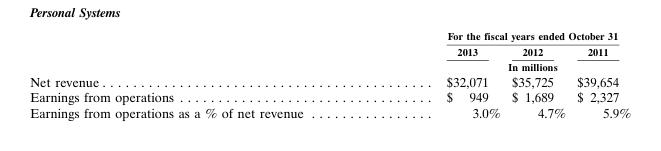table: (29, 29, 630, 119)
table column: (29, 29, 374, 119), (374, 29, 505, 119), (505, 29, 570, 119), (570, 29, 630, 119)
table column header: (29, 29, 630, 72)
table row: (29, 72, 630, 88), (29, 88, 630, 104), (29, 43, 630, 58), (29, 104, 630, 119), (29, 29, 630, 43), (29, 58, 630, 72)
table spanning cell: (374, 29, 630, 43), (374, 58, 630, 72)
